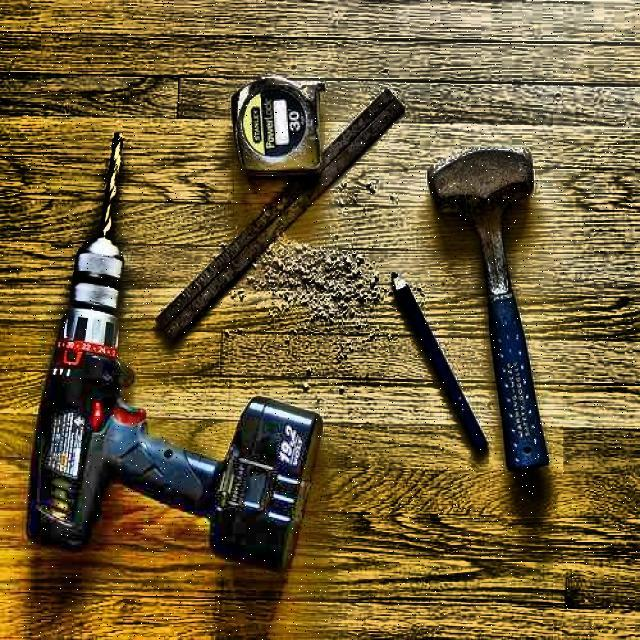hammer: (427, 146, 559, 472)
